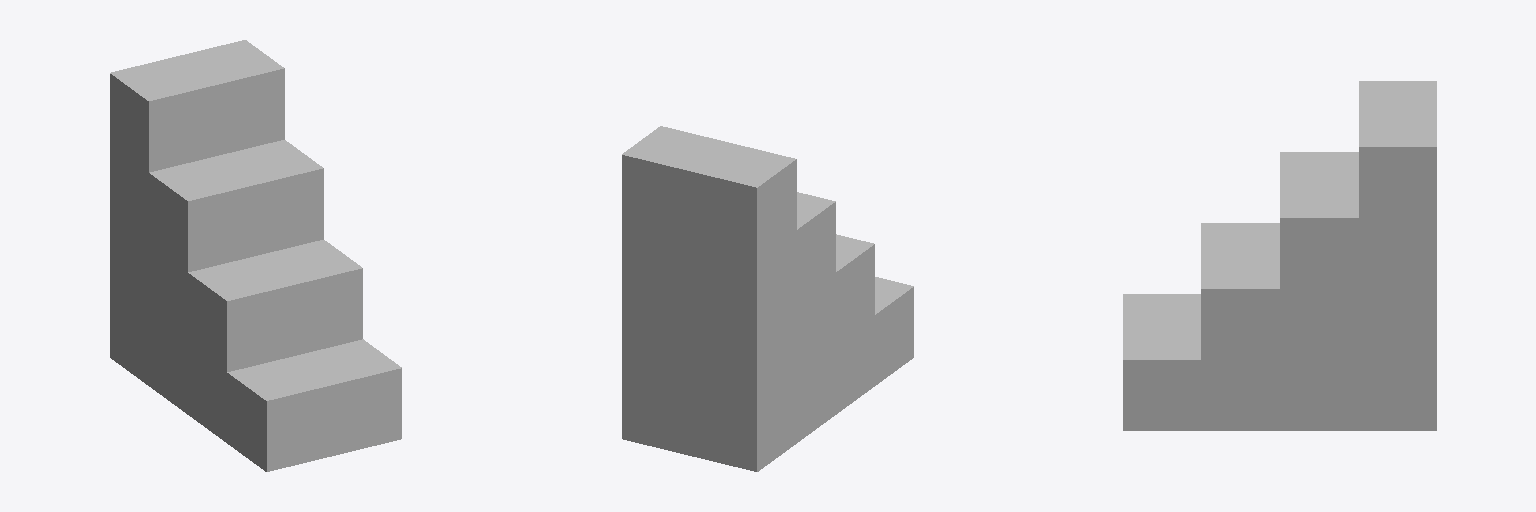
The model's file is staircase-1-to-1.obj.
3 renders of one model, left to right at view 1: azimuth 30°, elevation 25°; view 2: azimuth 150°, elevation 25°; view 3: azimuth 270°, elevation 25°, orthographic.
Visible parts, largest first — view 1: staircase-1-to-1_Cube.002; view 2: staircase-1-to-1_Cube.002; view 3: staircase-1-to-1_Cube.002.
Boxes of the visible parts, box(x1,y1,x2,y2) form: staircase-1-to-1_Cube.002: box(110, 40, 401, 471); staircase-1-to-1_Cube.002: box(622, 126, 913, 471); staircase-1-to-1_Cube.002: box(1123, 81, 1436, 430).
Size of the model in its own units: 2 by 4 by 4.